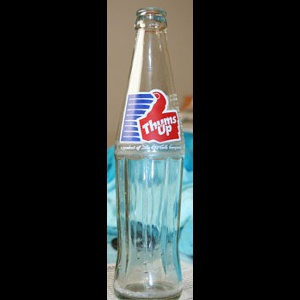emptybottle: (114, 7, 183, 300)
